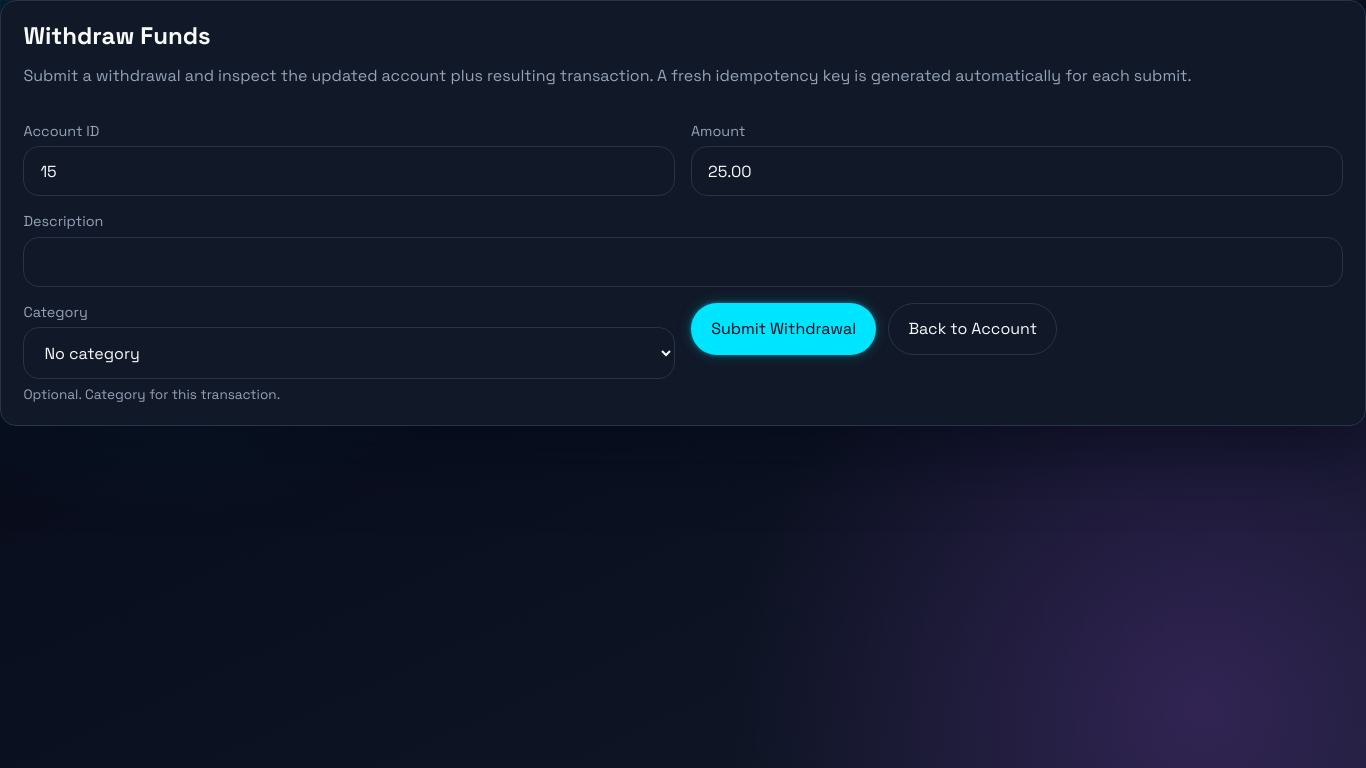
money movement pages › shows only the success banner after a withdrawal completes
The width and height of the screenshot is (1366, 768).
Replace the text in the field labelled "Amount" with "21.50" at [1017, 171], box [691,146,1343,196]
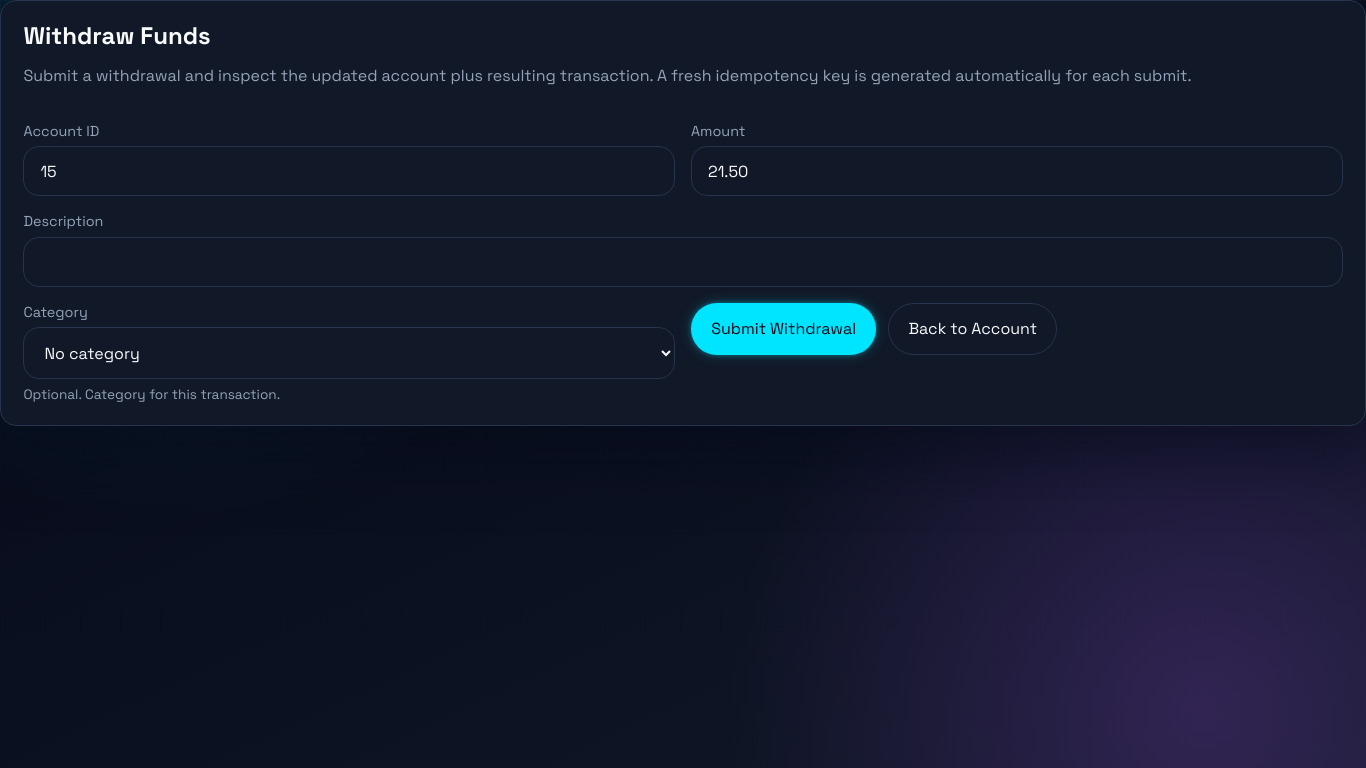
Type "Cash out" into the field labelled "Description" at [683, 262], box [23,236,1343,287]
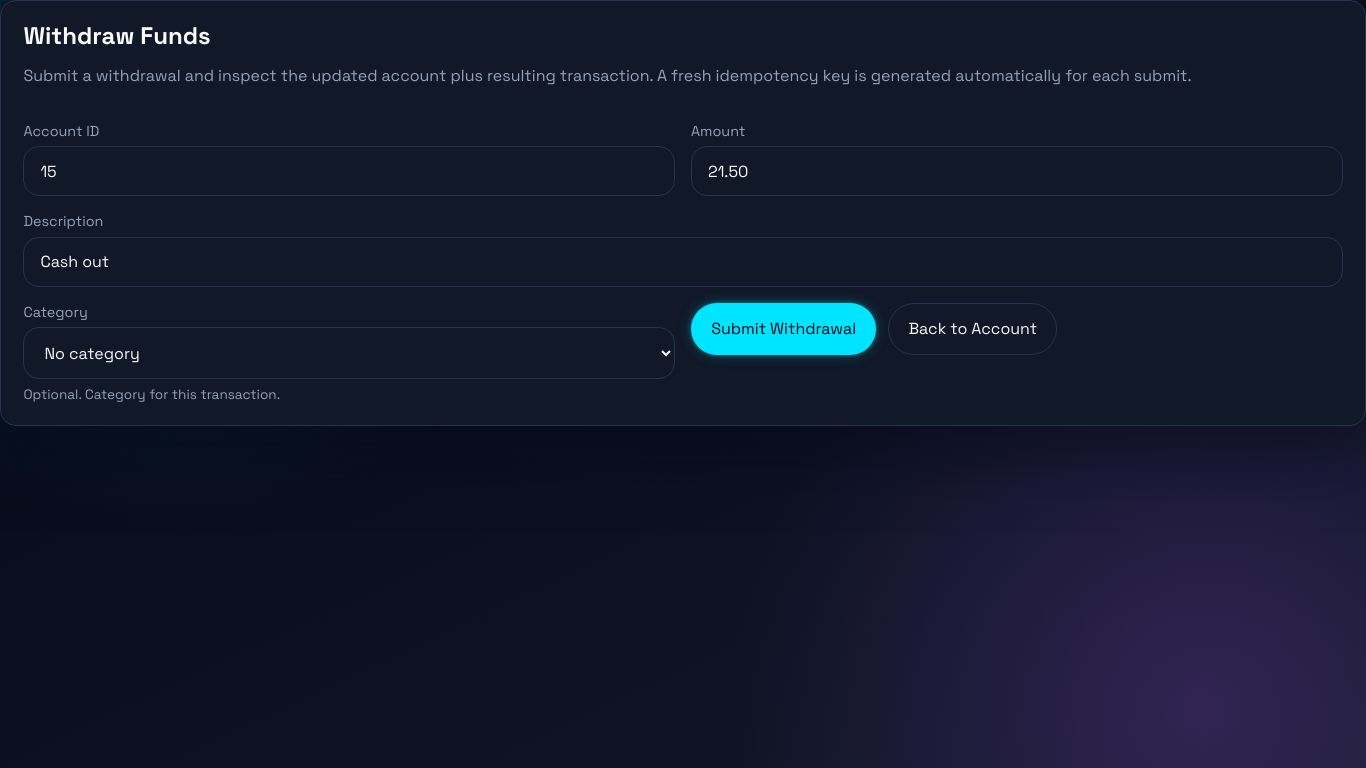
Click the button "Submit Withdrawal" at [784, 329], box [691,303,876,354]
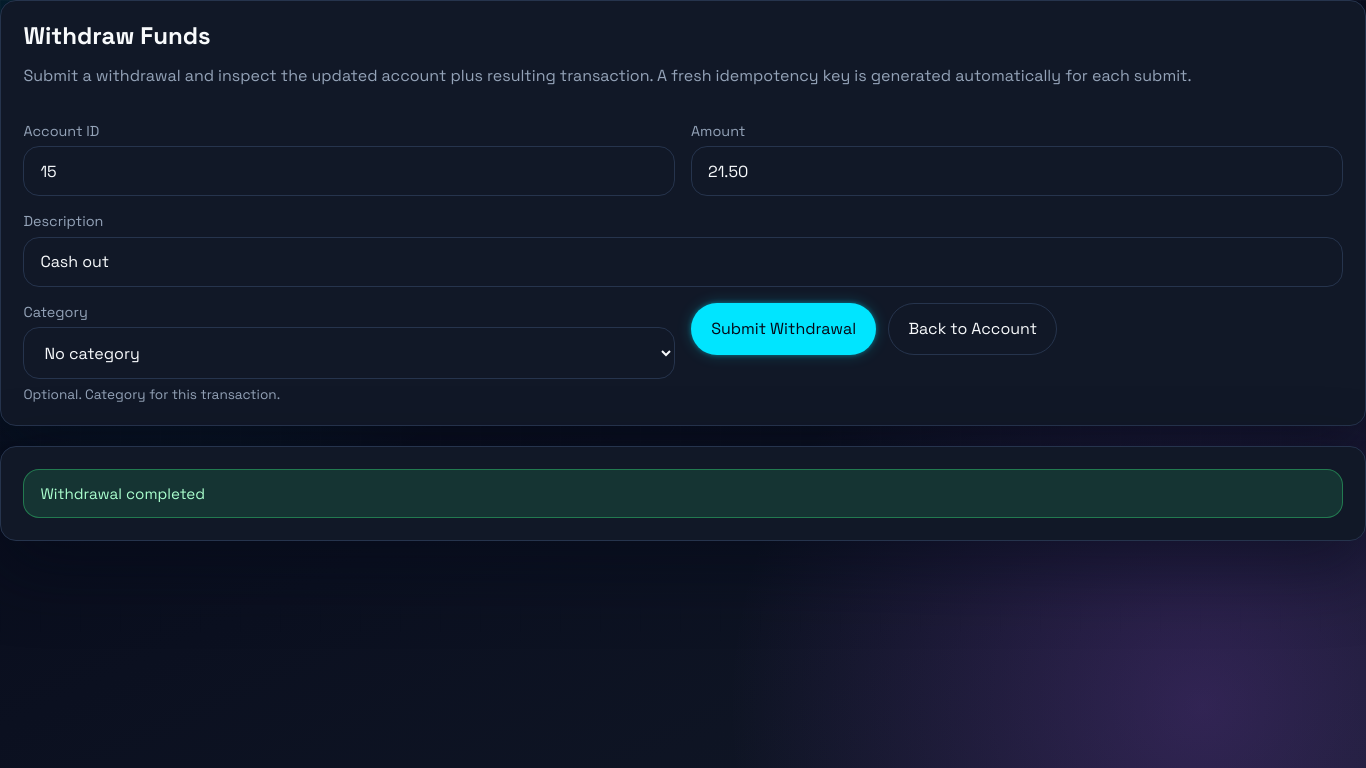
Now the text "Withdrawal completed" is shown, box [23,470,1343,518]
